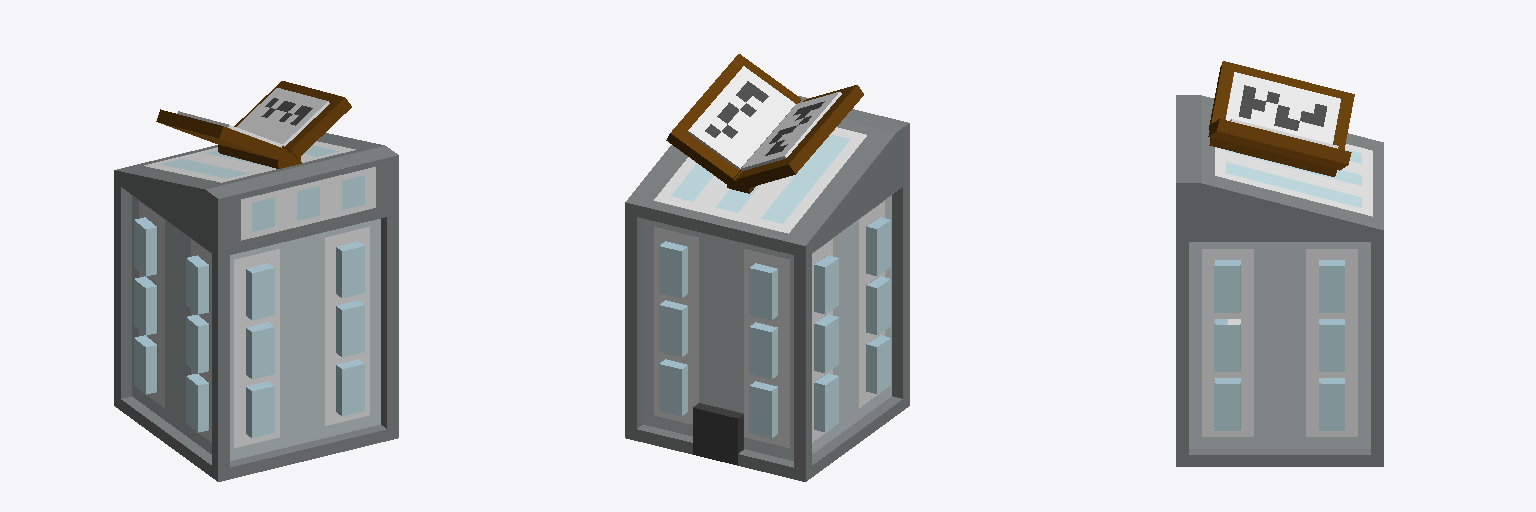
3 renders of one model, left to right at view 1: azimuth 30°, elevation 25°; view 2: azimuth 150°, elevation 25°; view 3: azimuth 270°, elevation 25°, orthographic.
Visible parts, largest first — view 1: cube; view 2: cube; view 3: cube.
Boxes of the visible parts, <box> form: cube: <box>114,81,398,481</box>; cube: <box>625,54,909,481</box>; cube: <box>1176,61,1383,466</box>.
Bounding box in the file's own units: 1.01 × 1.76 × 1.
Materials: 4 (4 with a texture image).